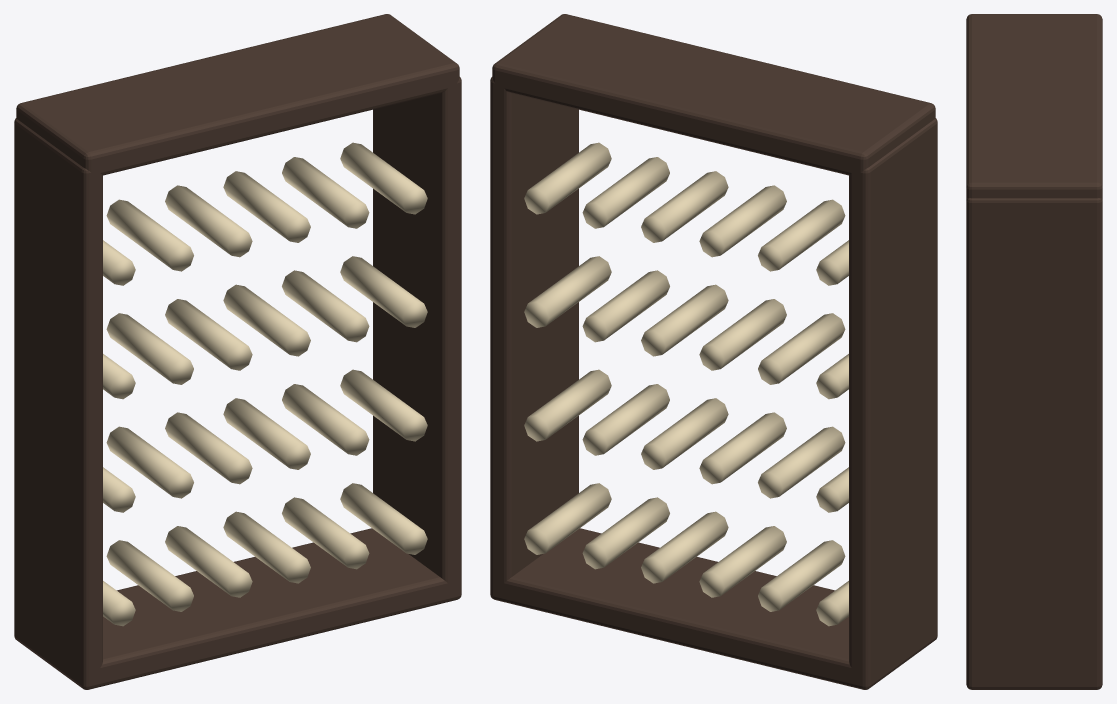
File: study_furniture_scroll_rack_b.glb
3 renders of one model, left to right at view 1: azimuth 30°, elevation 25°; view 2: azimuth 150°, elevation 25°; view 3: azimuth 270°, elevation 25°, orthographic. The views are drawn at different scales.
Parts seen in each view (by area): view 1: GD_study_furniture_scroll_rack_b__m0, GD_study_furniture_scroll_rack_b__m1; view 2: GD_study_furniture_scroll_rack_b__m0, GD_study_furniture_scroll_rack_b__m1; view 3: GD_study_furniture_scroll_rack_b__m0.
Part boxes in pixels (x1,y1,x2,y2): GD_study_furniture_scroll_rack_b__m0: [14, 14, 461, 689]; GD_study_furniture_scroll_rack_b__m1: [103, 142, 427, 626]; GD_study_furniture_scroll_rack_b__m0: [490, 14, 937, 689]; GD_study_furniture_scroll_rack_b__m1: [524, 142, 848, 626]; GD_study_furniture_scroll_rack_b__m0: [966, 14, 1102, 689].
Bounding box in the file's own units: 0.91 × 1.23 × 0.3.
